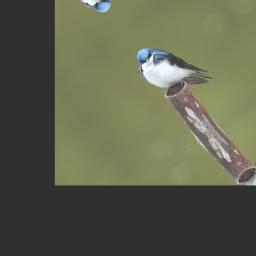Swallow: (127, 26, 216, 112)
